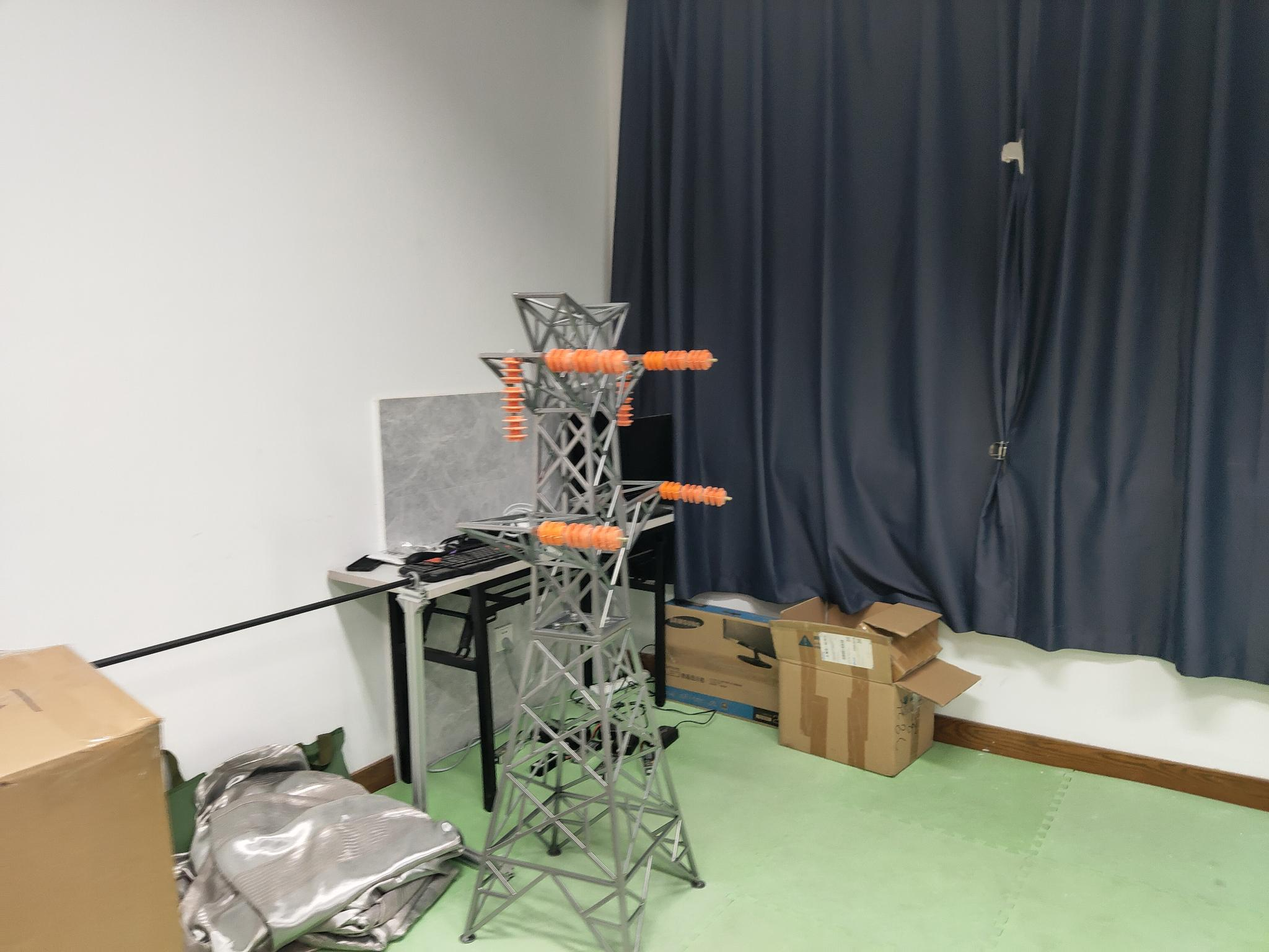tower: (453, 291, 704, 952)
